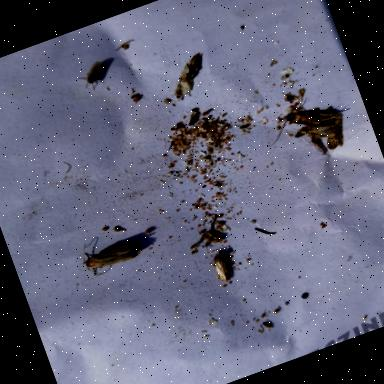pbw: (261, 90, 346, 146), (80, 234, 145, 280), (302, 115, 340, 146), (320, 118, 352, 152), (175, 53, 208, 83), (212, 250, 238, 284)
